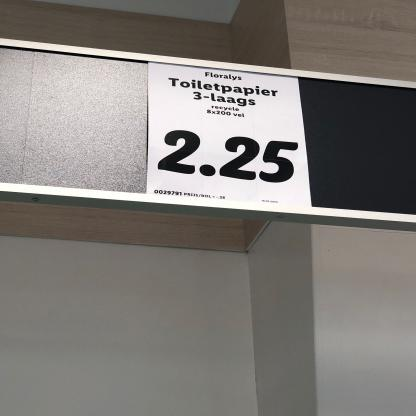prtg: (148, 63, 313, 208)
